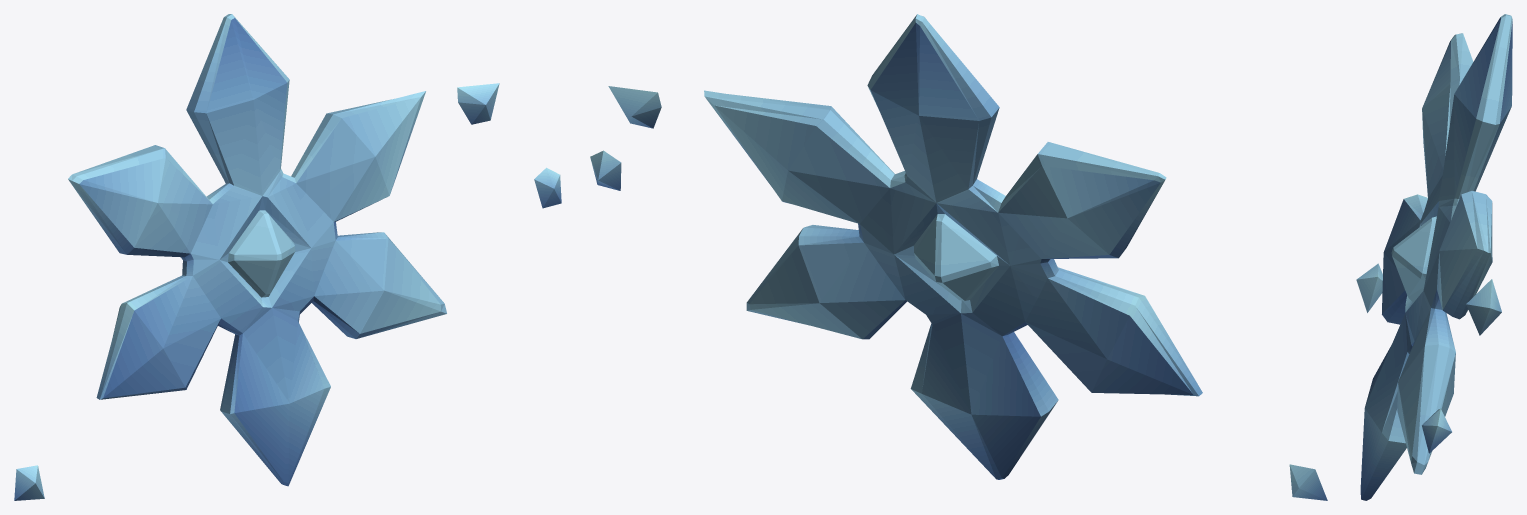
Rendered from CharSkyKid_Hat_FeastSnowflake.glb.
3 views of the same model, side by side, from view 1: azimuth 30°, elevation 25°; view 2: azimuth 150°, elevation 25°; view 3: azimuth 270°, elevation 25° (orthographic). The views are drawn at different scales.
Parts seen in each view (by area): view 1: CharSkyKid_Hat_FeastSnowflake; view 2: CharSkyKid_Hat_FeastSnowflake; view 3: CharSkyKid_Hat_FeastSnowflake.
Part boxes in pixels (<box>): CharSkyKid_Hat_FeastSnowflake: <box>14,14,561,500</box>; CharSkyKid_Hat_FeastSnowflake: <box>590,14,1327,500</box>; CharSkyKid_Hat_FeastSnowflake: <box>1356,14,1512,500</box>.
Size of the model in its own units: 3.41 by 2.41 by 0.6987.
Materials: 1 (1 with a texture image).
